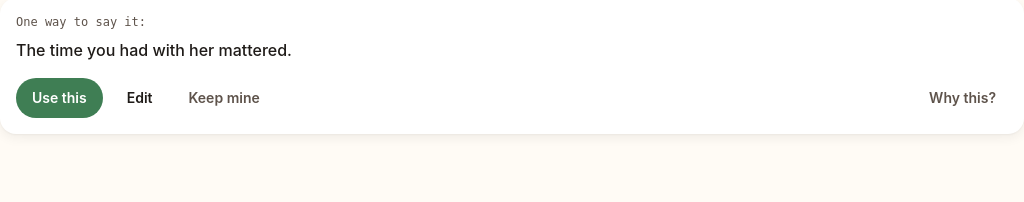
Scenario: CoachChip › starts with the reasoning collapsed, and Why this? expands it, flips aria-expanded, and swaps the label to Hide
Check: the text "\"At least\" can shrink a loss." is not shown
Step 1. Click the button "Why this?" → (963, 98), box [917,78,1008,118]
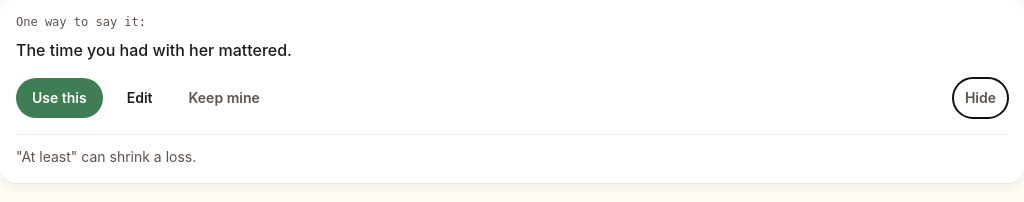
Check: the text "\"At least\" can shrink a loss." is shown, box [16,148,196,165]
Check: the button "Hide" is expanded
Step 2. Click the button "Hide" → (980, 98), box [953,78,1008,118]
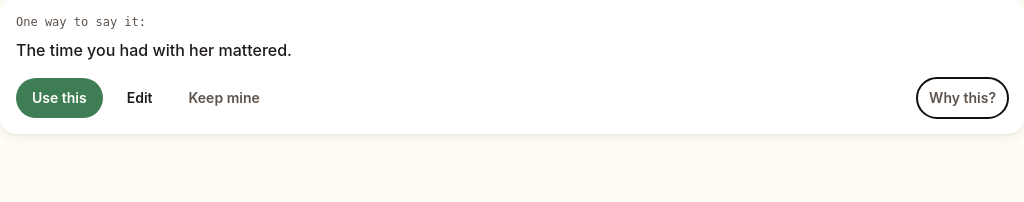
Check: the text "\"At least\" can shrink a loss." is gone
